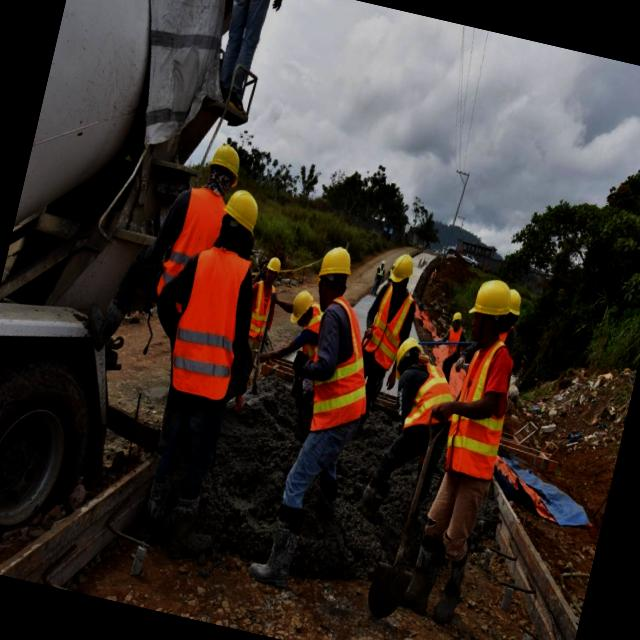helmet: (464, 273, 516, 324), (311, 240, 360, 290), (218, 186, 268, 230), (389, 328, 424, 390), (207, 135, 250, 178), (386, 244, 422, 293), (286, 282, 316, 330), (496, 278, 526, 318), (265, 253, 282, 274), (448, 306, 464, 324), (380, 258, 386, 266)
person: (124, 171, 282, 563), (242, 235, 392, 604), (392, 270, 536, 626), (74, 115, 249, 392), (356, 321, 464, 527), (344, 245, 424, 422), (216, 245, 287, 433), (202, 0, 288, 124), (254, 276, 330, 406), (491, 290, 528, 360), (435, 311, 469, 378), (368, 248, 393, 296)
vest: (162, 245, 254, 405), (433, 340, 523, 493), (296, 287, 386, 437), (146, 184, 233, 317), (387, 334, 464, 450), (360, 280, 420, 366), (239, 283, 276, 352), (295, 294, 327, 368), (440, 328, 470, 352), (496, 322, 516, 346), (376, 266, 385, 280)
